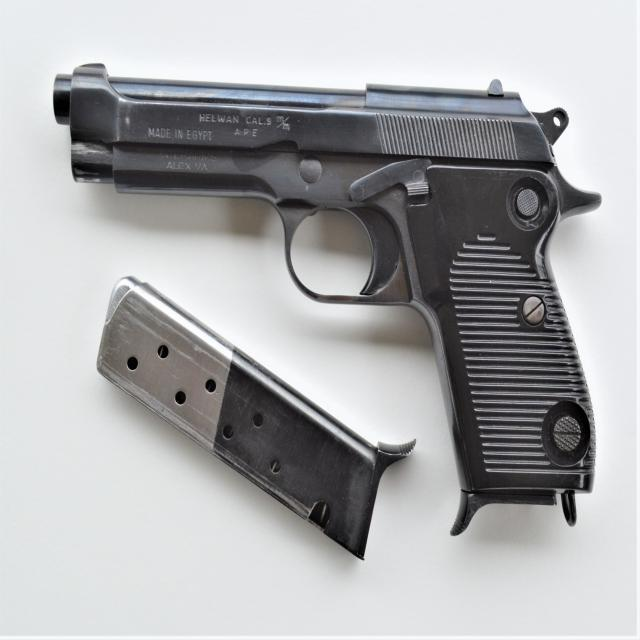Pistol: (45, 38, 618, 548)
